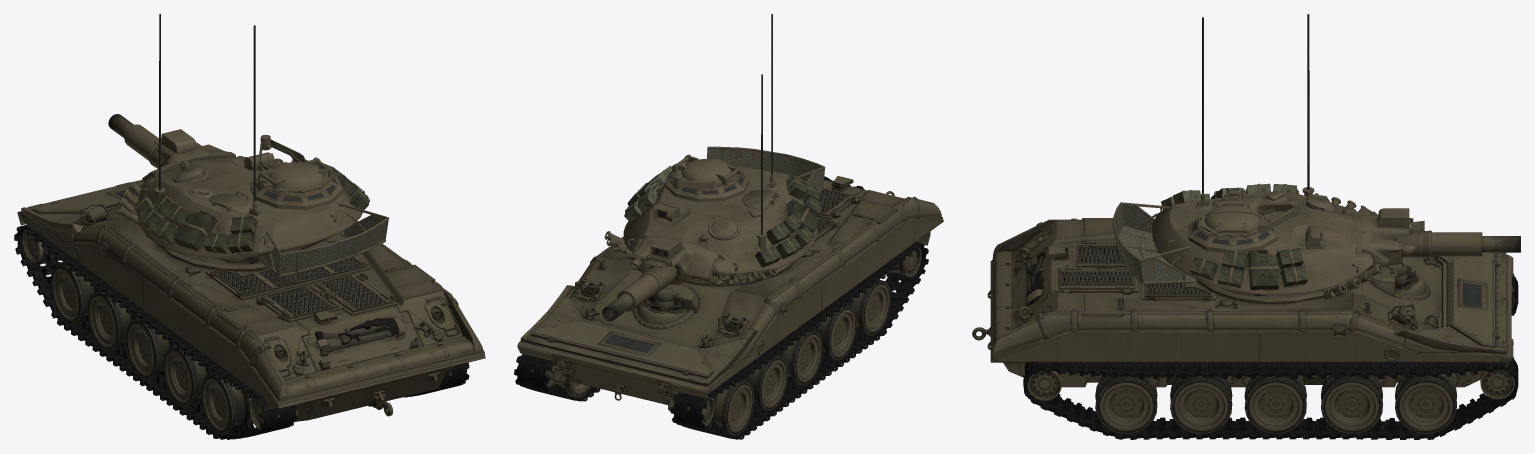
3 views of the same model, side by side, from view 1: azimuth 30°, elevation 25°; view 2: azimuth 150°, elevation 25°; view 3: azimuth 270°, elevation 25° (orthographic). The views are drawn at different scales.
Parts seen in each view (by area): view 1: V_m551__Body_2, V_m551__Turret_4, V_m551__Body_3, V_m551__Turret_2, V_m551__Gun_1, V_m551__W06_1, V_m551__W03_1, V_m551__W02_1, V_m551__W05_1, V_m551__W04_1, V_m551__Turret_1, V_m551__W01_1; view 2: V_m551__Body_2, V_m551__Turret_4, V_m551__Body_3, V_m551__Gun_1, V_m551__Turret_2, V_m551__W02_1, V_m551__W04_1, V_m551__W03_1, V_m551__W05_1, V_m551__W06_1, V_m551__Body_1, V_m551__Turret_1 (+2 smaller); view 3: V_m551__Body_2, V_m551__Turret_4, V_m551__Body_3, V_m551__Gun_1, V_m551__Turret_2, V_m551__W09_1, V_m551__W11_1, V_m551__W10_1, V_m551__W13_1, V_m551__W12_1, V_m551__Turret_1, V_m551__W08_1 (+2 smaller).
Boxes of the visible parts, left/top/right/bottom form: V_m551__Body_2: left=17, top=180, right=485, bottom=421; V_m551__Turret_4: left=116, top=134, right=389, bottom=276; V_m551__Body_3: left=14, top=224, right=469, bottom=439; V_m551__Turret_2: left=133, top=159, right=368, bottom=253; V_m551__Gun_1: left=108, top=114, right=235, bottom=183; V_m551__W06_1: left=200, top=373, right=253, bottom=434; V_m551__W03_1: left=87, top=291, right=135, bottom=352; V_m551__W02_1: left=50, top=263, right=100, bottom=324; V_m551__W05_1: left=163, top=346, right=212, bottom=407; V_m551__W04_1: left=125, top=318, right=176, bottom=379; V_m551__Turret_1: left=159, top=14, right=255, bottom=201; V_m551__W01_1: left=22, top=229, right=55, bottom=262; V_m551__Body_2: left=517, top=176, right=943, bottom=404; V_m551__Turret_4: left=604, top=146, right=825, bottom=285; V_m551__Body_3: left=514, top=242, right=928, bottom=439; V_m551__Gun_1: left=602, top=237, right=718, bottom=321; V_m551__Turret_2: left=624, top=163, right=820, bottom=267; V_m551__W02_1: left=708, top=380, right=754, bottom=435; V_m551__W04_1: left=775, top=330, right=822, bottom=385; V_m551__W03_1: left=742, top=355, right=788, bottom=411; V_m551__W05_1: left=813, top=305, right=856, bottom=360; V_m551__W06_1: left=846, top=280, right=891, bottom=335; V_m551__Body_1: left=581, top=285, right=736, bottom=352; V_m551__Turret_1: left=761, top=14, right=772, bottom=234; V_m551__Body_2: left=972, top=218, right=1513, bottom=387; V_m551__Turret_4: left=1112, top=183, right=1382, bottom=299; V_m551__Body_3: left=1023, top=273, right=1518, bottom=439; V_m551__Gun_1: left=1361, top=208, right=1520, bottom=272; V_m551__Turret_2: left=1161, top=183, right=1329, bottom=289; V_m551__W09_1: left=1395, top=373, right=1456, bottom=433; V_m551__W11_1: left=1244, top=367, right=1306, bottom=434; V_m551__W10_1: left=1321, top=375, right=1382, bottom=434; V_m551__W13_1: left=1095, top=375, right=1157, bottom=433; V_m551__W12_1: left=1170, top=375, right=1232, bottom=434; V_m551__Turret_1: left=1202, top=14, right=1309, bottom=192; V_m551__W08_1: left=1480, top=369, right=1514, bottom=399.
Size of the model in its own units: 8.01 by 13.24 by 18.21.
8 materials, 8 textured.
